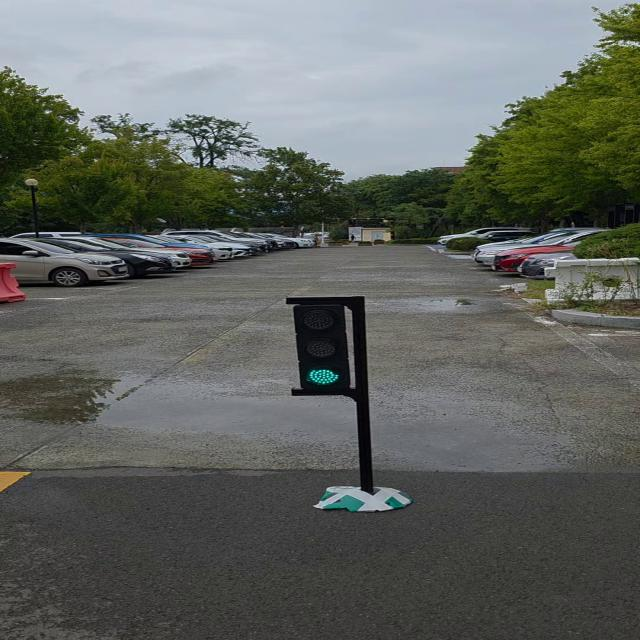green: (291, 299, 358, 397)
